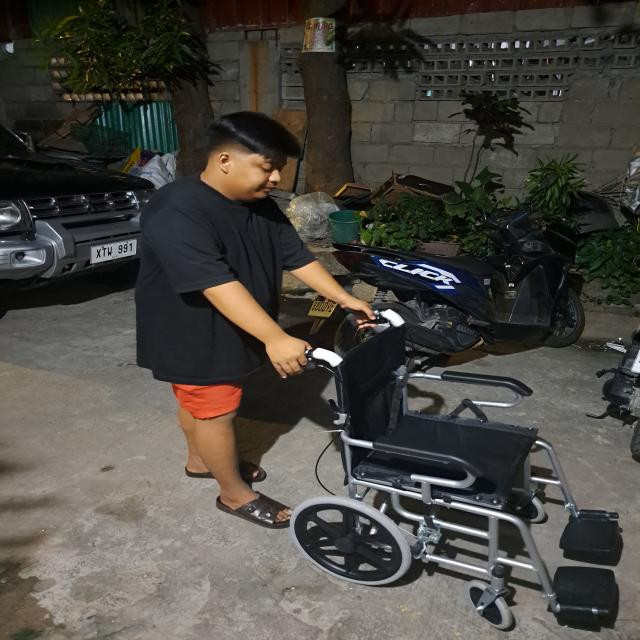wheelchairs: (273, 301, 636, 633)
